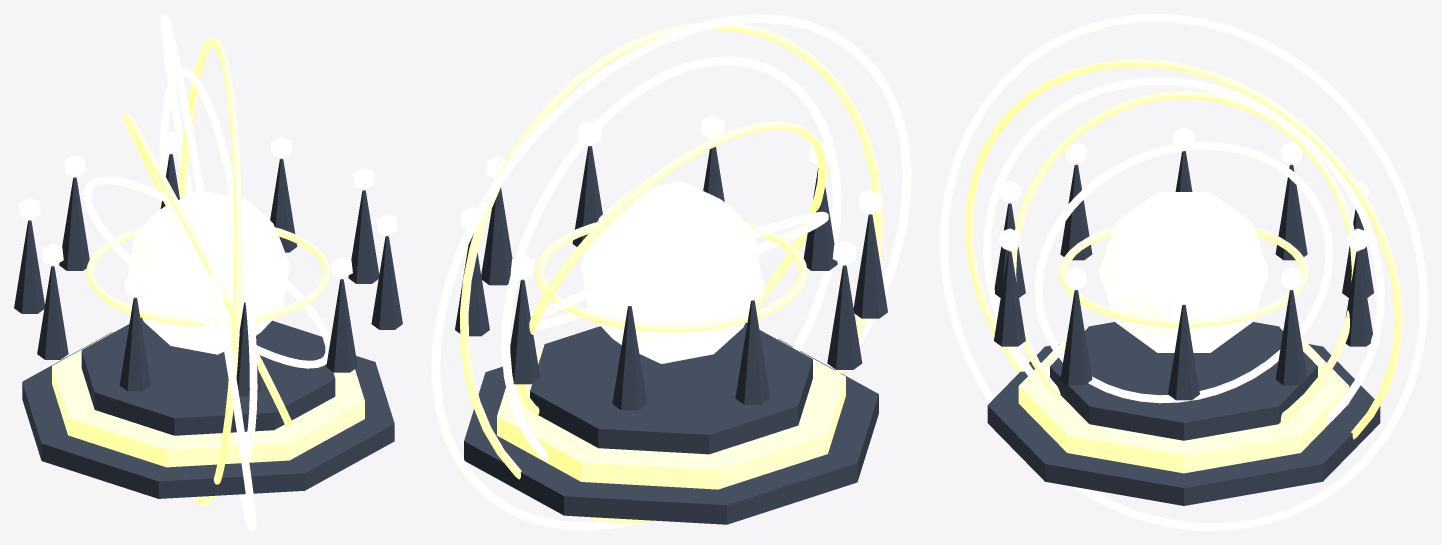
The model's file is gpu-blender-v17.glb.
3 views of the same model, side by side, from view 1: azimuth 30°, elevation 25°; view 2: azimuth 150°, elevation 25°; view 3: azimuth 270°, elevation 25° (orthographic). The views are drawn at different scales.
Visible parts, largest first — view 1: Cylinder.002, Cylinder, SovereignCore_robots-txt-auditor, Cylinder.001, Torus.005, Torus.004, Torus.001, Torus.003, Torus, Torus.002, Cone.006, Cone.008 (+7 smaller); view 2: Cylinder.002, SovereignCore_robots-txt-auditor, Cylinder, Cylinder.001, Torus.005, Torus.003, Torus.004, Torus.002, Torus, Torus.001, Cone.003, Cone.004 (+8 smaller); view 3: SovereignCore_robots-txt-auditor, Cylinder.002, Cylinder, Cylinder.001, Torus.005, Torus.004, Torus.003, Torus.001, Torus.002, Torus, Cone, Cone.001 (+7 smaller).
Part boxes in pixels (bbox=[...]): Cylinder.002: bbox=[81, 317, 335, 435]; Cylinder: bbox=[22, 332, 394, 498]; SovereignCore_robots-txt-auditor: bbox=[127, 191, 289, 354]; Cylinder.001: bbox=[52, 324, 364, 467]; Torus.005: bbox=[160, 14, 256, 530]; Torus.004: bbox=[178, 38, 241, 506]; Torus.001: bbox=[83, 176, 330, 368]; Torus.003: bbox=[159, 68, 257, 458]; Torus: bbox=[86, 227, 330, 326]; Torus.002: bbox=[123, 114, 292, 425]; Cone.006: bbox=[119, 297, 150, 391]; Cone.008: bbox=[326, 279, 357, 372]; Cylinder.002: bbox=[530, 322, 812, 454]; SovereignCore_robots-txt-auditor: bbox=[581, 181, 761, 363]; Cylinder: bbox=[464, 339, 878, 524]; Cylinder.001: bbox=[497, 330, 845, 489]; Torus.005: bbox=[431, 14, 911, 530]; Torus.003: bbox=[501, 56, 841, 461]; Torus.004: bbox=[460, 22, 882, 523]; Torus.002: bbox=[517, 121, 826, 415]; Torus: bbox=[535, 222, 807, 332]; Torus.001: bbox=[530, 211, 828, 330]; Cone.003: bbox=[612, 306, 647, 410]; Cone.004: bbox=[735, 300, 770, 404]; SovereignCore_robots-txt-auditor: bbox=[1099, 192, 1268, 352]; Cylinder.002: bbox=[1050, 322, 1317, 440]; Cylinder: bbox=[987, 344, 1380, 505]; Cylinder.001: bbox=[1018, 336, 1349, 473]; Torus.005: bbox=[940, 14, 1427, 530]; Torus.004: bbox=[965, 59, 1402, 439]; Torus.003: bbox=[983, 77, 1384, 423]; Torus.001: bbox=[1034, 141, 1333, 403]; Torus.002: bbox=[1010, 90, 1357, 423]; Torus: bbox=[1059, 227, 1308, 327]; Cone: bbox=[1168, 304, 1199, 400]; Cone.001: bbox=[1275, 290, 1307, 385].
Bounding box in the file's own units: 4.41 × 5.93 × 5.46.
